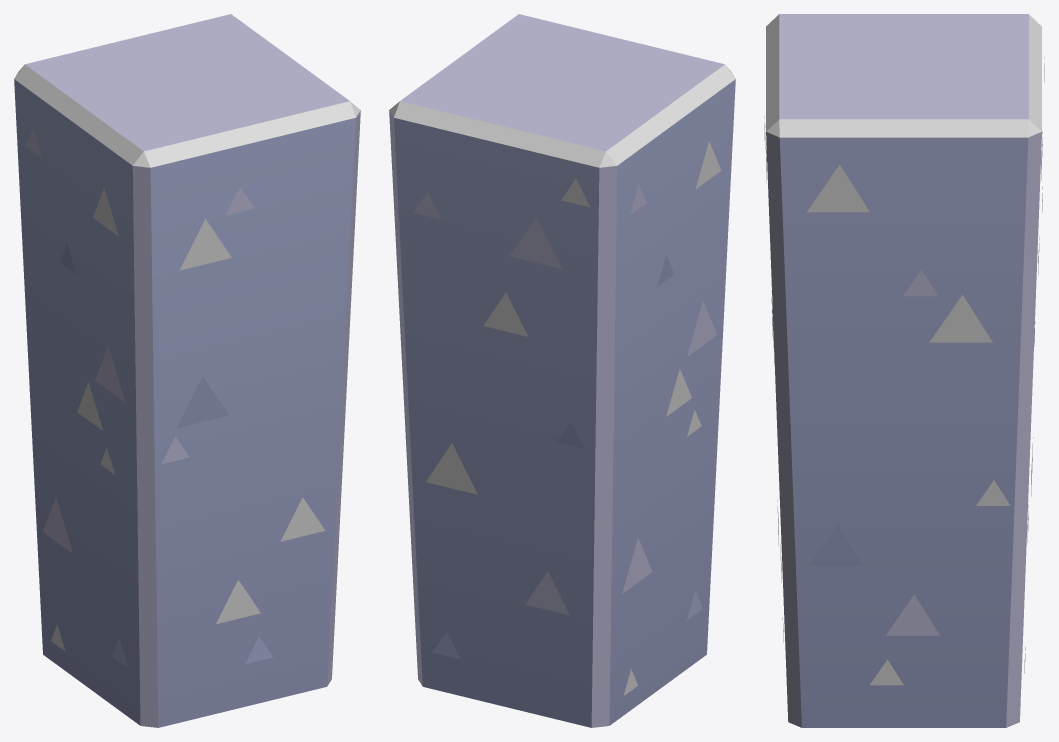
Rendered from Prop_Shrubs_00.fbx.
The picture shows the model from 3 angles, left to right: view 1: azimuth 30°, elevation 25°; view 2: azimuth 150°, elevation 25°; view 3: azimuth 270°, elevation 25°; orthographic projection. The views are drawn at different scales.
Parts seen in each view (by area): view 1: MODEL_Shrubs_00; view 2: MODEL_Shrubs_00; view 3: MODEL_Shrubs_00.
Boxes of the visible parts, x1=… form: MODEL_Shrubs_00: x1=14, y1=14, x2=360, y2=727; MODEL_Shrubs_00: x1=389, y1=14, x2=735, y2=727; MODEL_Shrubs_00: x1=764, y1=14, x2=1044, y2=727.
Bounding box in the file's own units: 201 × 488 × 203.
